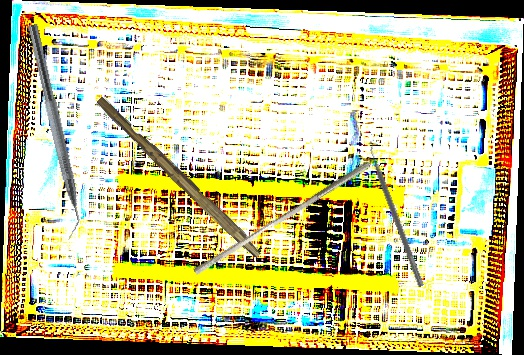Chopper: (12, 23, 91, 241)
Pusher: (192, 153, 372, 282)
Scalpel Handle: (92, 95, 267, 259)
Spatula Surgical: (364, 141, 431, 288)
